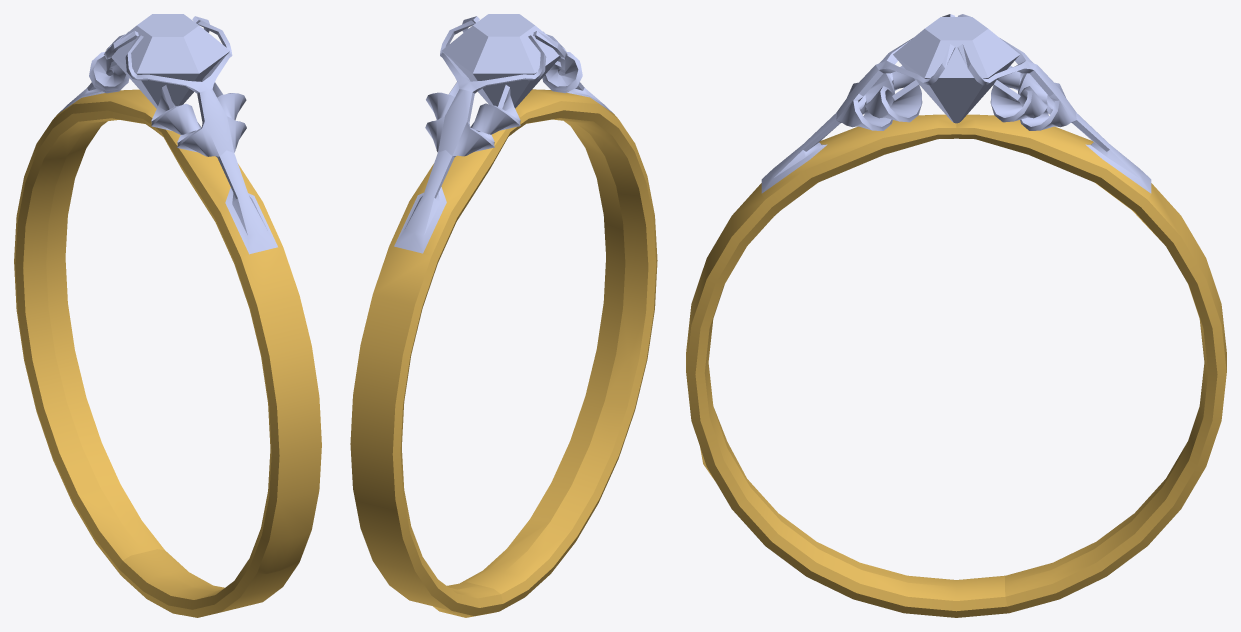
The model's file is Ring.fbx.
3 views of the same model, side by side, from view 1: azimuth 30°, elevation 25°; view 2: azimuth 150°, elevation 25°; view 3: azimuth 270°, elevation 25° (orthographic). The views are drawn at different scales.
Parts seen in each view (by area): view 1: Ring; view 2: Ring; view 3: Ring.
Boxes of the visible parts, x1,y1,x2,y2 form: Ring: (14,14,321,617); Ring: (350,14,657,617); Ring: (686,14,1226,617).
Bounding box in the file's own units: 9.13 × 48.83 × 41.09.
